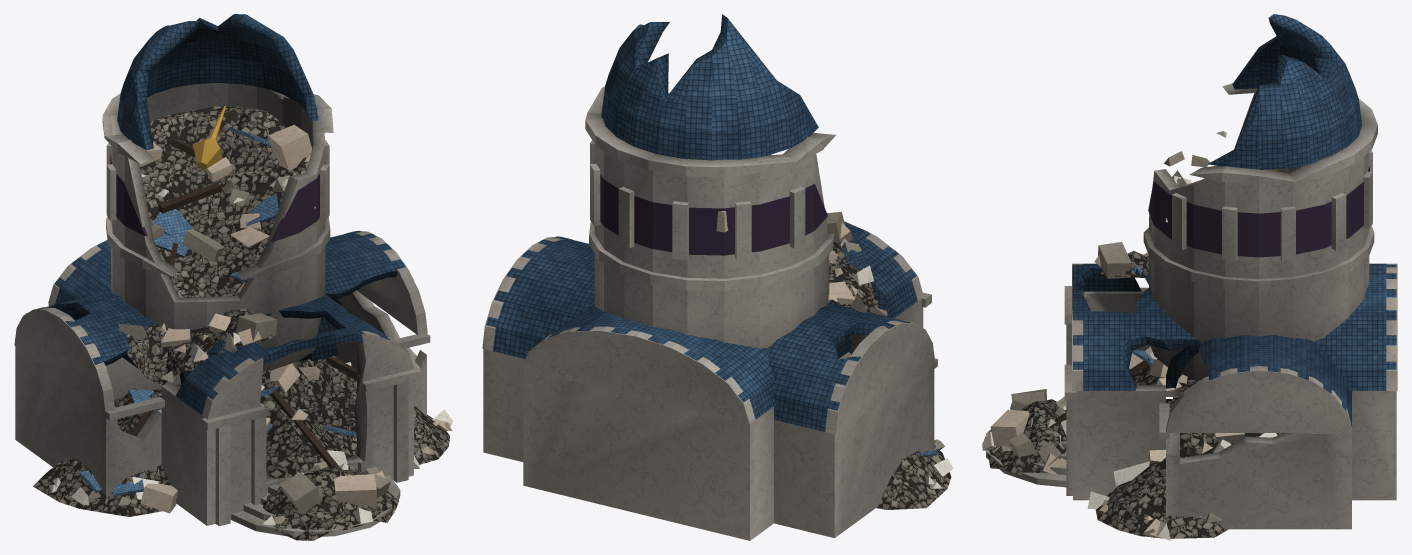
Rendered from CreBuild03a.glb.
3 renders of one model, left to right at view 1: azimuth 30°, elevation 25°; view 2: azimuth 150°, elevation 25°; view 3: azimuth 270°, elevation 25°, orthographic. The views are drawn at different scales.
Parts seen in each view (by area): view 1: marble; view 2: marble; view 3: marble.
Boxes of the visible parts, <box> form: marble: <box>14,14,453,540</box>; marble: <box>482,14,953,540</box>; marble: <box>982,14,1397,540</box>.
Bounding box in the file's own units: 12.92 × 13.81 × 12.07.
Materials: 6 (4 with a texture image).
